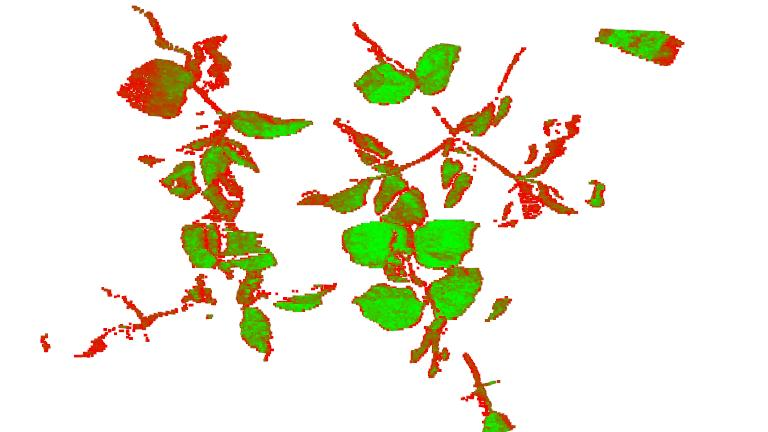mungbean: (324, 20, 582, 216), (113, 3, 314, 219), (76, 219, 339, 370), (345, 217, 517, 432)
